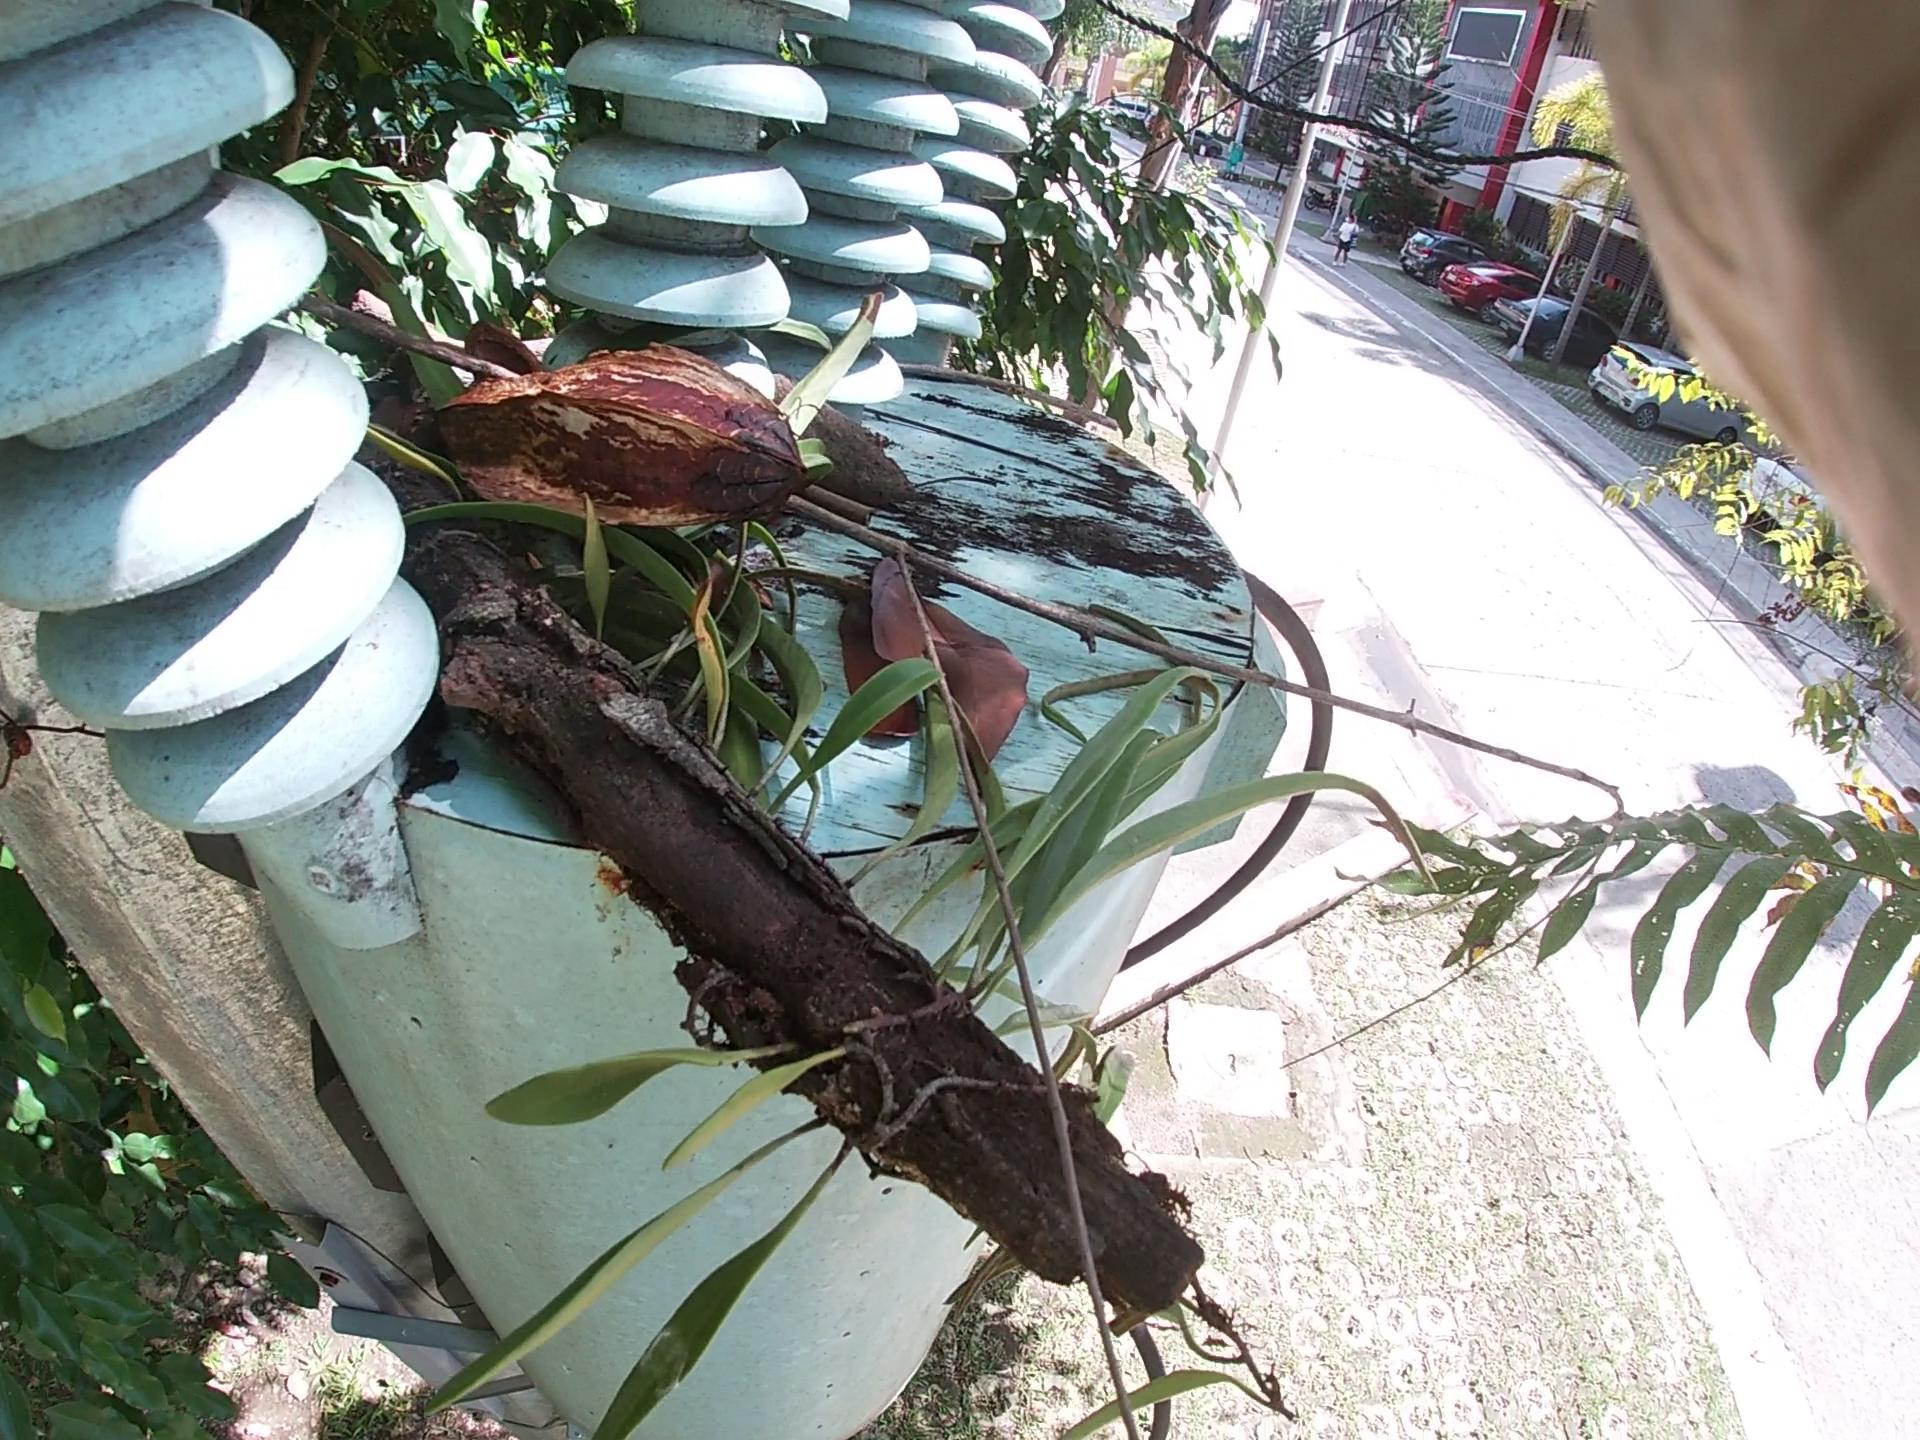branch with leaves: (348, 555, 1297, 1177)
leaf: (853, 537, 1023, 787)
mahogany fruit: (398, 266, 821, 549), (721, 360, 980, 554)
tree branch: (357, 309, 1578, 862), (872, 333, 1417, 442)
